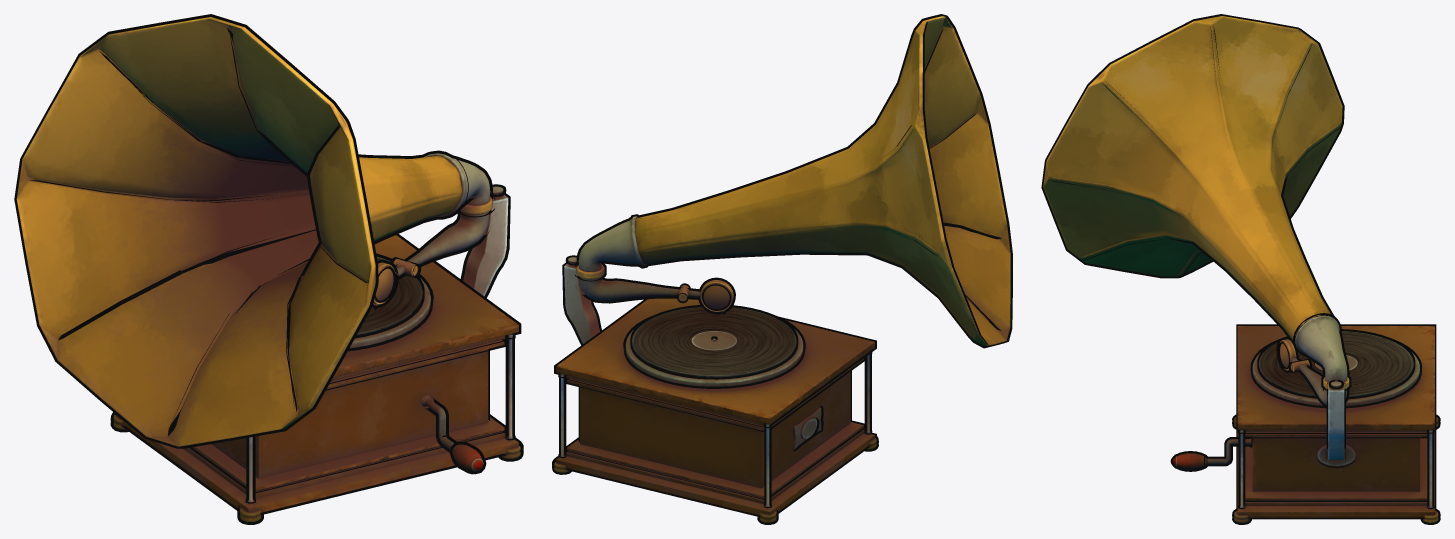
The model's file is old__stylized_gramophone.glb.
The picture shows the model from 3 angles, left to right: view 1: azimuth 30°, elevation 25°; view 2: azimuth 150°, elevation 25°; view 3: azimuth 270°, elevation 25°; orthographic projection. The views are drawn at different scales.
Parts seen in each view (by area): view 1: pCube2, pCube2.001; view 2: pCube2, pCube2.001; view 3: pCube2, pCube2.001.
Boxes of the visible parts, box(x1,y1,x2,y2) form: pCube2: box(16, 17, 520, 521); pCube2.001: box(14, 14, 523, 524); pCube2: box(554, 16, 1010, 522); pCube2.001: box(552, 14, 1012, 524); pCube2: box(1043, 16, 1438, 522); pCube2.001: box(1041, 14, 1440, 524).
Bounding box in the file's own units: 2.81 × 2.86 × 2.63.
Materials: 2 (1 with a texture image).
